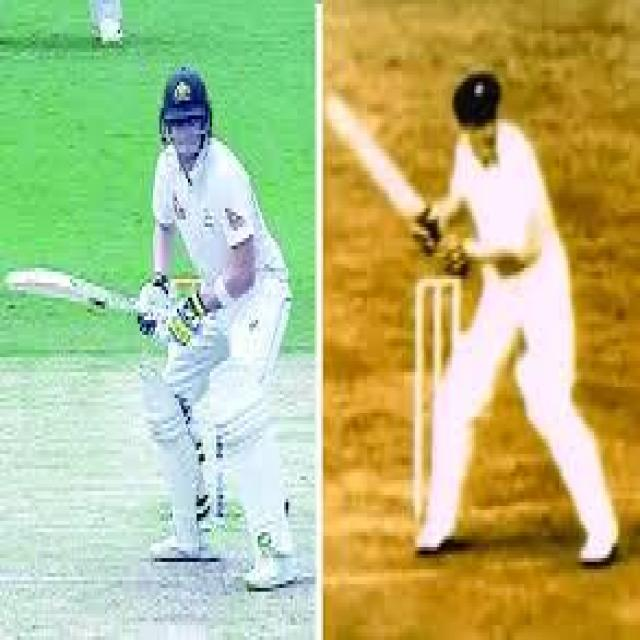bat: (5, 266, 139, 330)
